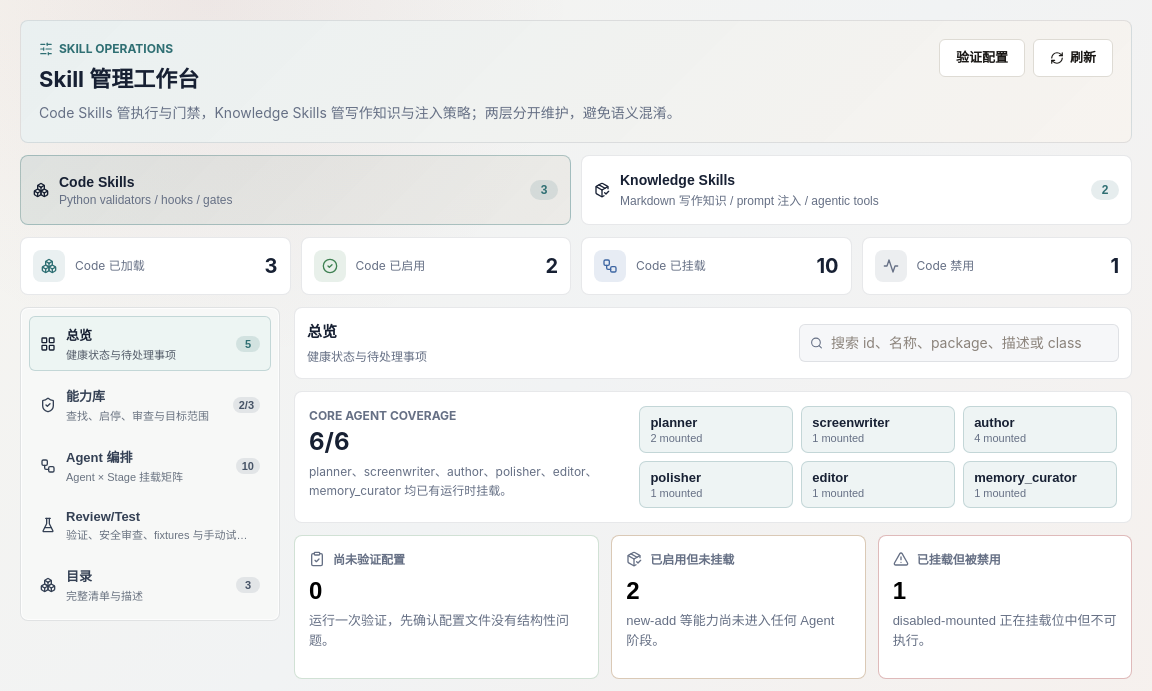
Test case: SkillVisibilityPanel › renders default core Agent mounts in the matrix
The width and height of the screenshot is (1152, 691).
Click the button "Agent 编排 Agent × Stage 挂载矩阵 10" at [150, 466], box 29,438 -> 271,493
(page scrolled)
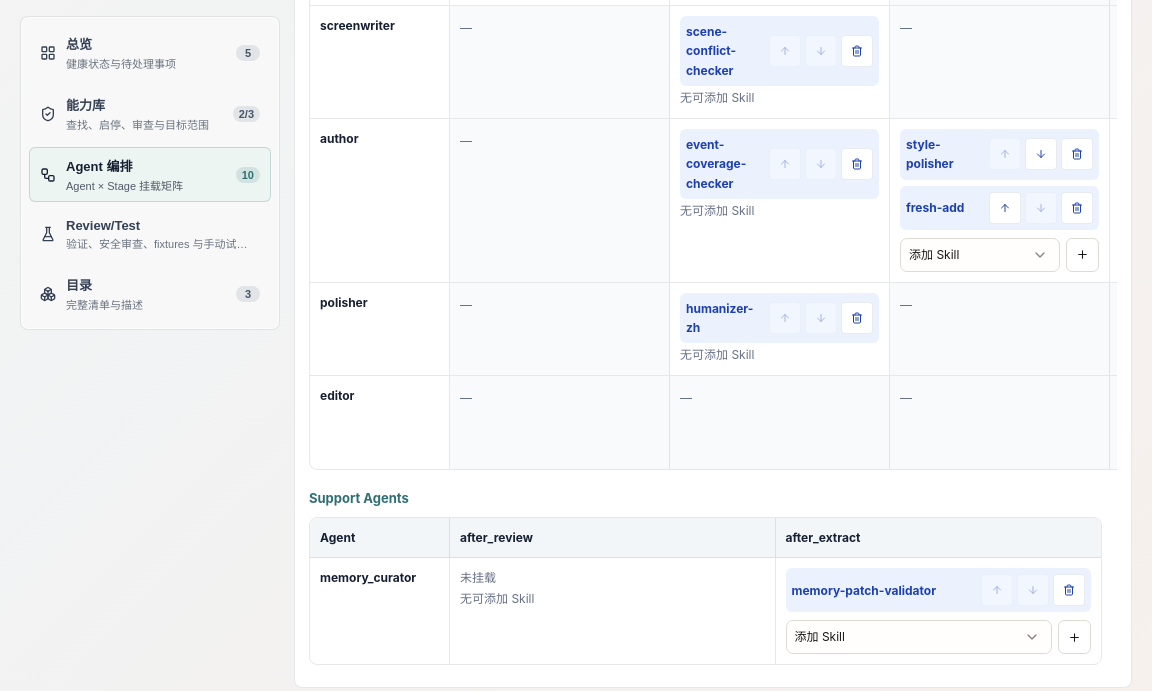
expect the text "scene-conflict-checker" is shown: met, box 686,24 -> 736,78
expect the text "event-coverage-checker" is shown: met, box 686,137 -> 746,191
expect the text "memory-patch-validator" is shown: met, box 792,582 -> 936,598
